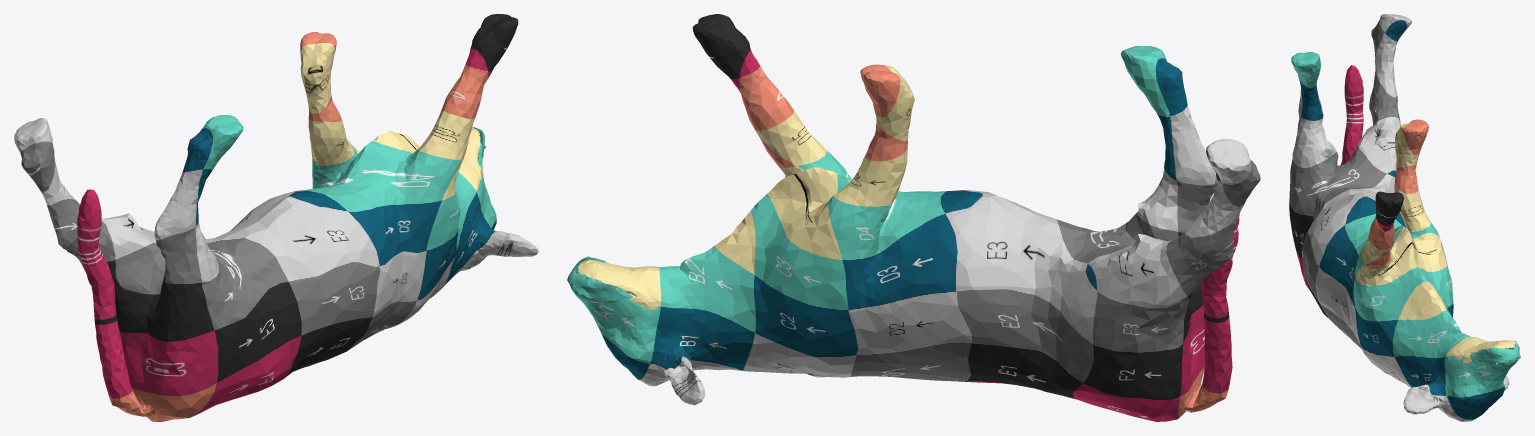
Rendered from dog_05-cow_06.obj.
3 renders of one model, left to right at view 1: azimuth 30°, elevation 25°; view 2: azimuth 150°, elevation 25°; view 3: azimuth 270°, elevation 25°, orthographic. The views are drawn at different scales.
Visible parts, largest first — view 1: dog_05-cow_06_export; view 2: dog_05-cow_06_export; view 3: dog_05-cow_06_export.
Boxes of the visible parts, x1=… form: dog_05-cow_06_export: x1=14, y1=14, x2=538, y2=421; dog_05-cow_06_export: x1=567, y1=14, x2=1260, y2=421; dog_05-cow_06_export: x1=1289, y1=14, x2=1520, y2=421.
Bounding box in the file's own units: 0.9906 × 0.5382 × 0.4724.
